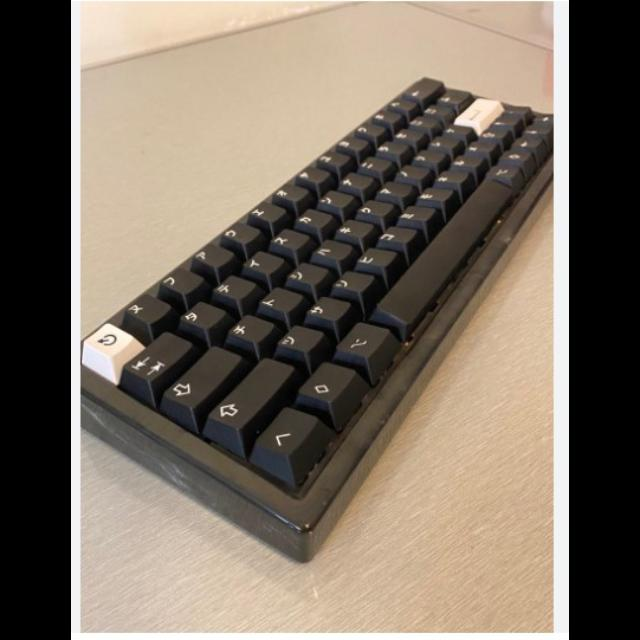Computer-Keyboard: (84, 77, 554, 542)
